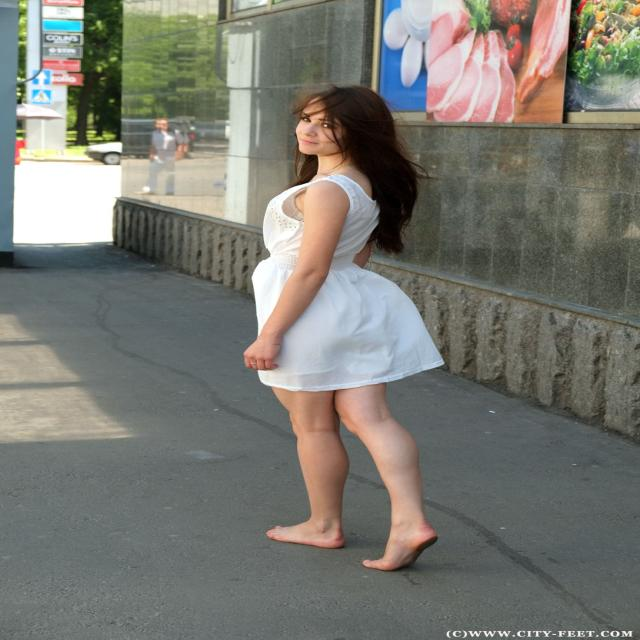No Safety Boots: (362, 526, 438, 571), (266, 523, 346, 548)
